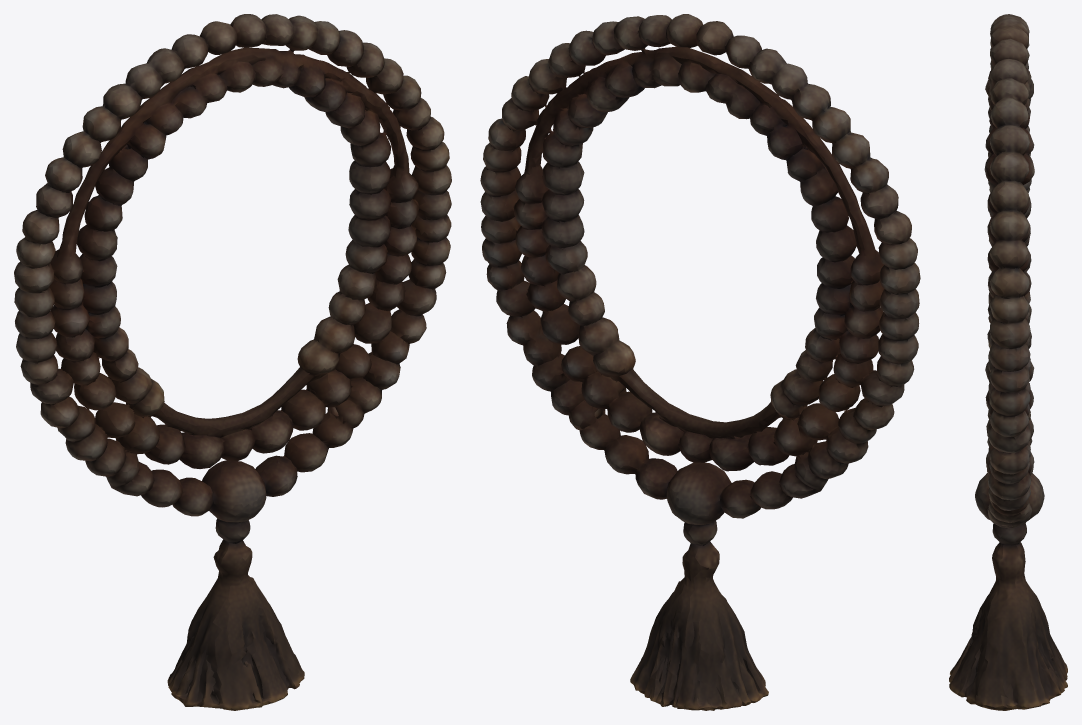
The model's file is PROP-012.glb.
3 renders of one model, left to right at view 1: azimuth 30°, elevation 25°; view 2: azimuth 150°, elevation 25°; view 3: azimuth 270°, elevation 25°, orthographic. The views are drawn at different scales.
Visible parts, largest first — view 1: world; view 2: world; view 3: world.
Part boxes in pixels (bbox=[...]): world: bbox=[14, 14, 451, 710]; world: bbox=[480, 14, 920, 710]; world: bbox=[949, 14, 1067, 710].
Size of the model in its own units: 0.32 by 0.4732 by 0.0781.
Materials: 1 (1 with a texture image).
